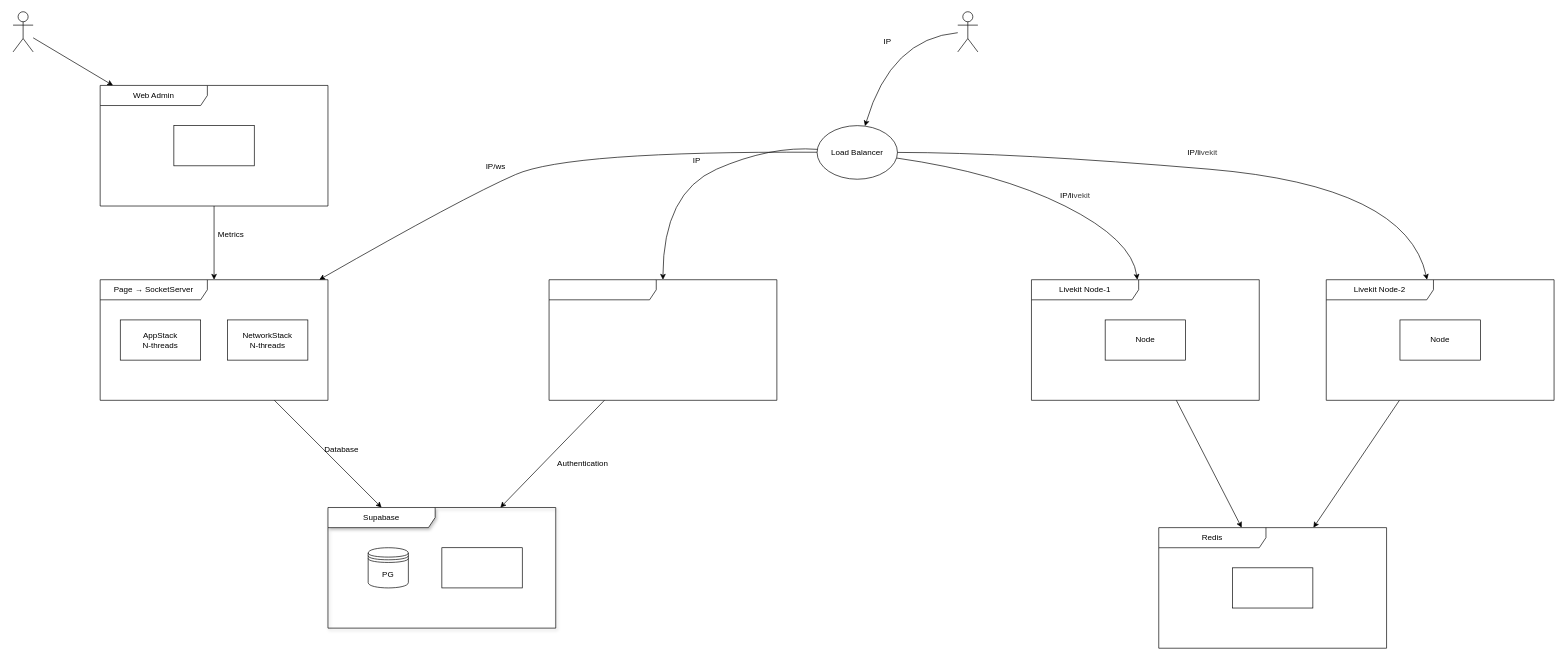
Image size: 1566x660. Some labels were removed from this diagram. The shapes that lost their labels are listed below. From the top down, each one's centre as x and y in pixels, then its label:
(x=22, y=31): Admin
(x=967, y=31): Client
(x=213, y=145): Control Panel
(x=662, y=339): Web Client
(x=481, y=567): Authenticator
(x=1272, y=587): - Runs locally - Used by Livekit
